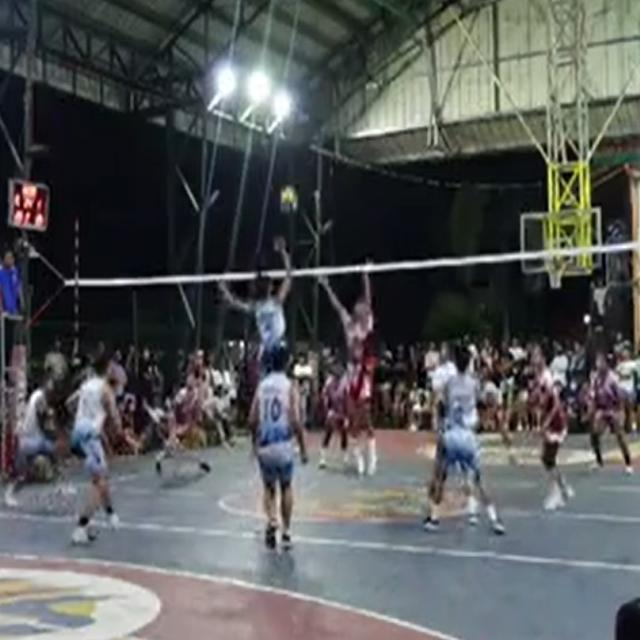volleyball: (280, 187, 298, 212)
